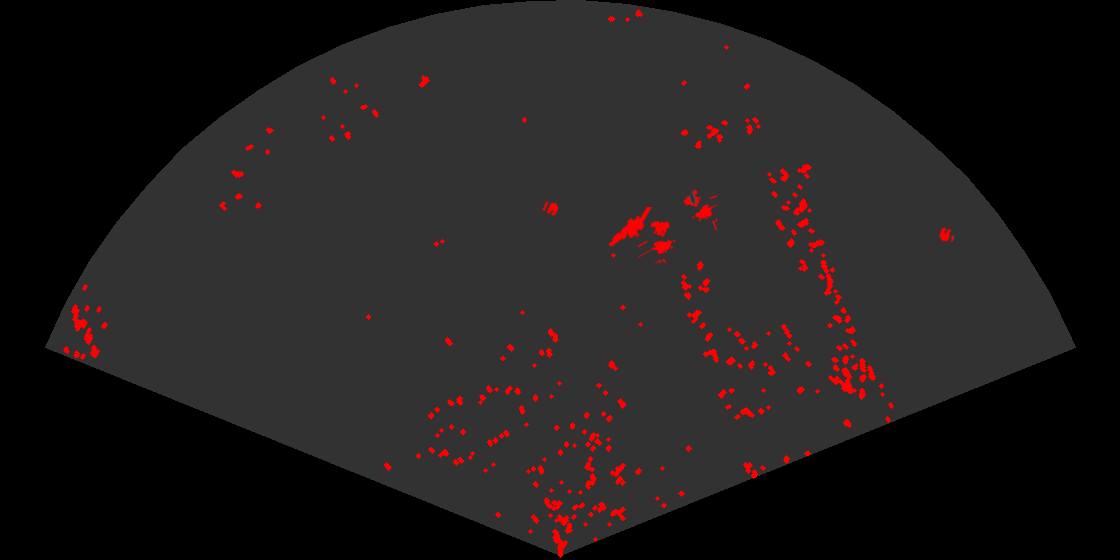ball: (541, 199, 560, 218), (938, 226, 956, 244)
cage: (638, 219, 677, 263), (682, 188, 717, 230)
frogman: (606, 207, 652, 254)
